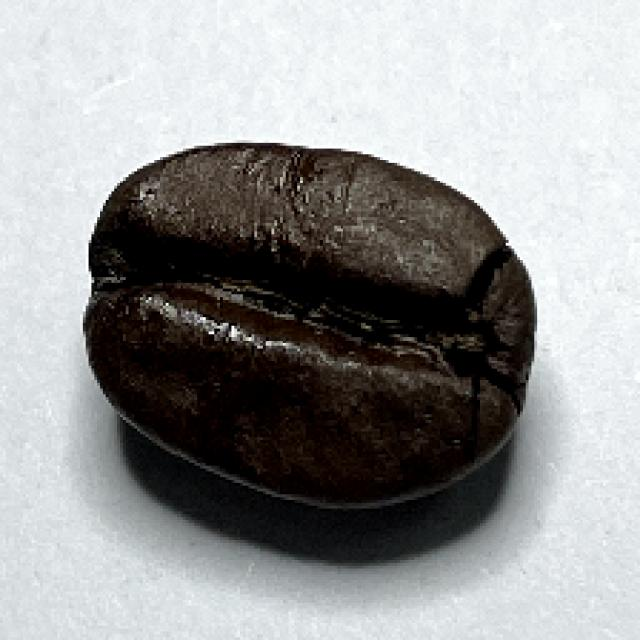bean: (79, 144, 536, 513)
